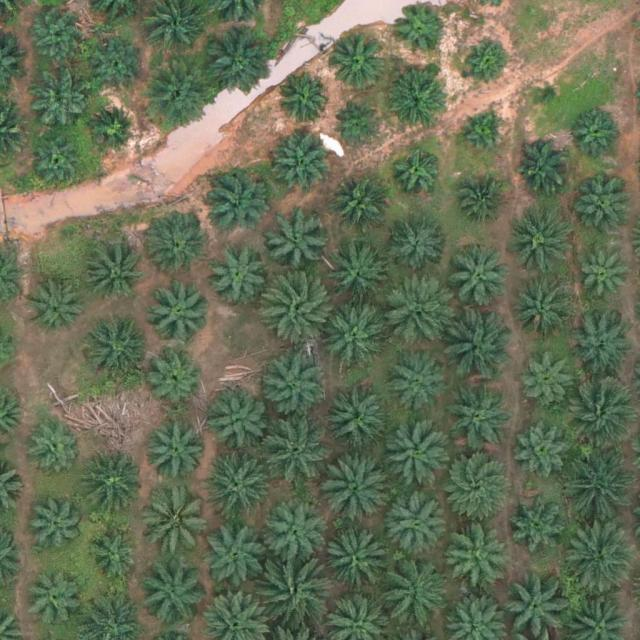Healthy: (137, 560, 208, 631), (381, 421, 452, 492), (144, 64, 214, 135), (202, 29, 272, 100), (564, 525, 634, 596), (382, 559, 452, 630), (565, 375, 635, 446), (563, 449, 633, 520), (442, 310, 512, 381), (439, 448, 510, 518), (382, 275, 452, 346), (262, 417, 332, 488), (200, 449, 271, 519), (258, 560, 328, 630), (322, 452, 392, 522), (259, 349, 329, 419), (263, 274, 333, 344), (144, 488, 214, 558), (384, 73, 447, 136), (447, 248, 510, 311), (269, 137, 332, 200), (267, 209, 330, 272), (570, 318, 633, 381), (385, 349, 448, 412), (322, 305, 385, 368), (202, 524, 265, 587), (147, 421, 210, 484), (149, 280, 212, 343), (84, 318, 147, 381), (27, 74, 89, 137), (574, 178, 636, 241), (204, 171, 266, 234), (146, 211, 208, 274), (84, 242, 146, 305), (506, 493, 568, 556), (514, 418, 577, 480), (446, 387, 508, 450), (443, 524, 505, 587), (386, 492, 448, 555), (387, 212, 449, 275), (325, 388, 387, 451), (322, 531, 384, 594), (265, 503, 327, 566), (207, 391, 269, 454), (81, 454, 143, 517), (510, 212, 572, 274), (206, 243, 268, 305), (512, 277, 574, 339), (329, 247, 391, 309), (87, 102, 142, 157), (32, 136, 87, 191), (90, 37, 145, 92), (454, 179, 509, 234), (576, 253, 631, 308), (569, 102, 624, 157), (517, 139, 572, 194), (328, 34, 383, 89), (277, 73, 332, 128), (24, 574, 79, 629), (522, 353, 577, 408), (149, 350, 204, 405), (87, 525, 142, 580), (28, 496, 83, 551), (31, 281, 86, 336), (31, 9, 85, 64), (395, 3, 449, 58), (332, 178, 386, 233), (27, 419, 81, 474)
Small: (393, 149, 440, 197), (463, 38, 510, 86), (337, 106, 384, 153), (459, 112, 506, 159), (533, 77, 564, 108)
